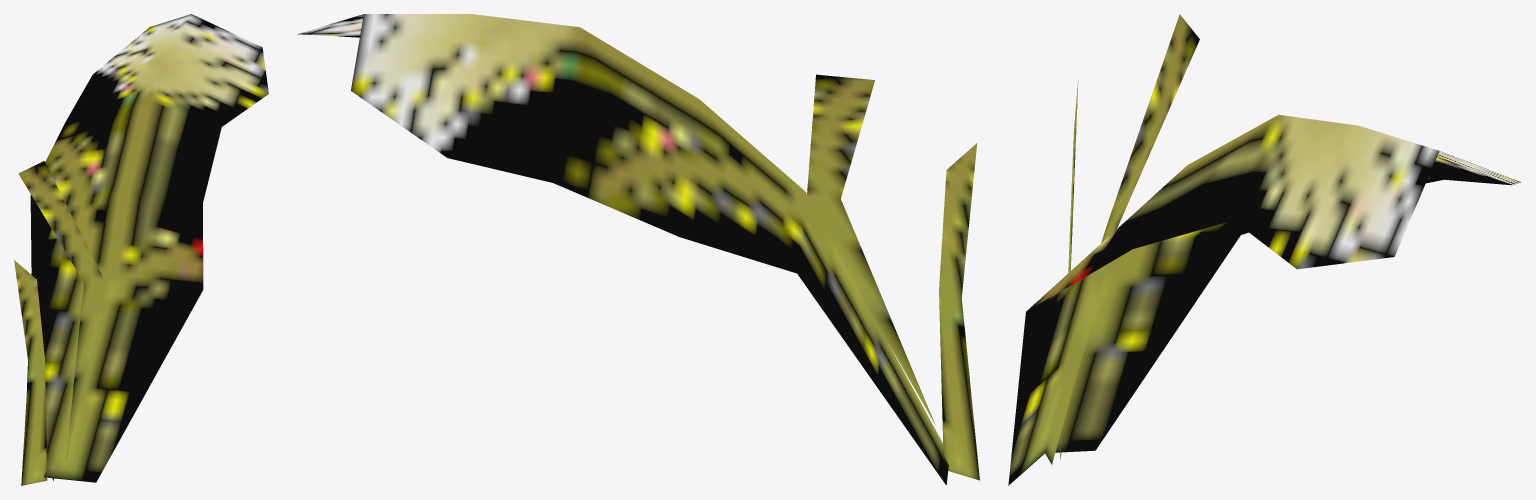
File: P_Marshtail03.obj
3 renders of one model, left to right at view 1: azimuth 30°, elevation 25°; view 2: azimuth 150°, elevation 25°; view 3: azimuth 270°, elevation 25°, orthographic. The views are drawn at different scales.
Size of the model in its own units: 1.54 by 1.35 by 1.21.
